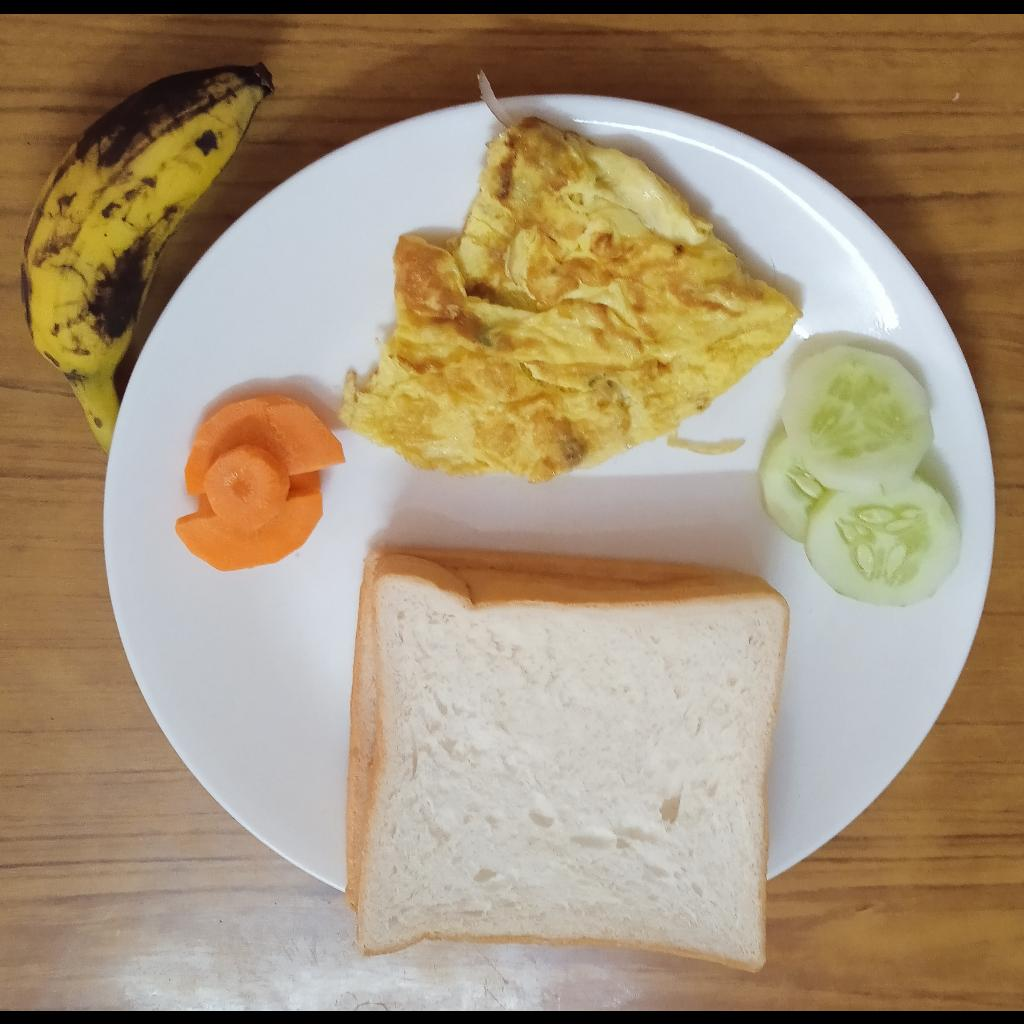banana: (19, 64, 273, 458)
bread: (344, 546, 792, 974)
carrot: (174, 392, 346, 572)
cucumber: (761, 345, 960, 608)
egg-poached: (339, 116, 803, 483)
